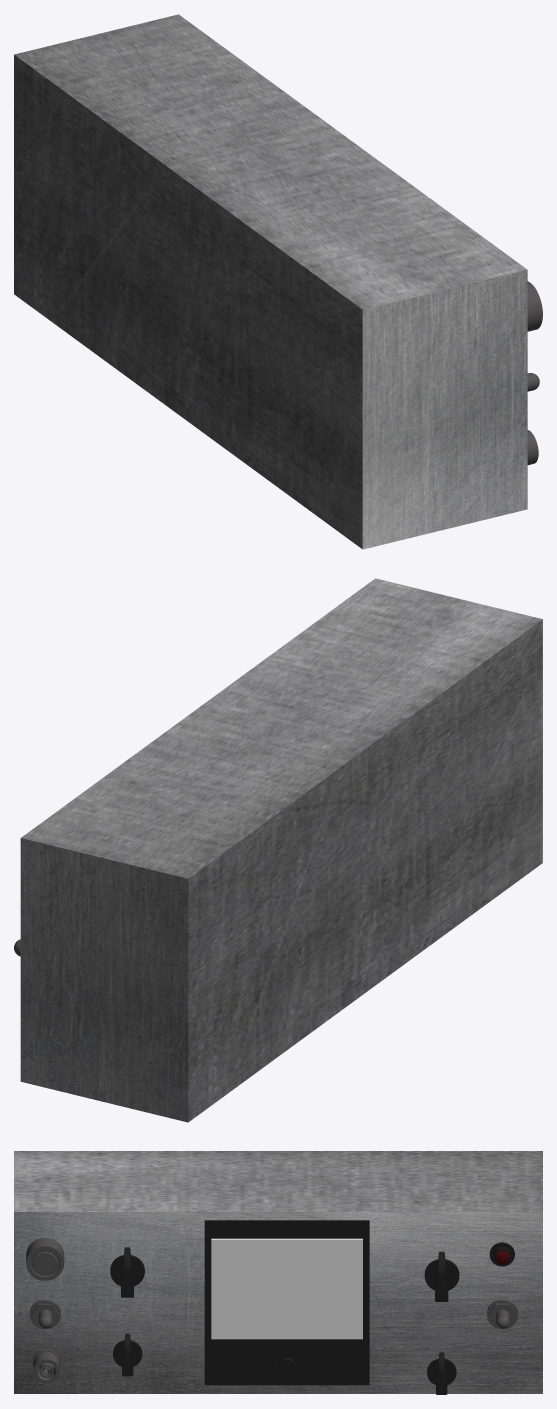
File: усилитель.fbx
The picture shows the model from 3 angles, top to bottom: view 1: azimuth 30°, elevation 25°; view 2: azimuth 150°, elevation 25°; view 3: azimuth 270°, elevation 25°; orthographic projection. The views are drawn at different scales.
Parts seen in each view (by area): view 1: Cube.014, Cylinder.041; view 2: Cube.014; view 3: Cube.014, Cube.016, Cube.015, Cylinder.041, Cylinder.055, Cylinder.058, Cylinder.001, Cube.017, Cube.020, Cylinder.057, Cylinder.056, Cube.019 (+3 smaller).
Boxes of the visible parts, x1,y1,x2,y2 form: Cube.014: [14, 14, 527, 549]; Cylinder.041: [527, 281, 542, 331]; Cube.014: [20, 578, 542, 1122]; Cube.014: [14, 1151, 542, 1393]; Cube.016: [211, 1238, 362, 1339]; Cube.015: [204, 1220, 369, 1385]; Cylinder.041: [26, 1237, 64, 1280]; Cylinder.055: [424, 1259, 459, 1290]; Cylinder.058: [110, 1255, 144, 1286]; Cylinder.001: [33, 1351, 59, 1383]; Cube.017: [435, 1251, 448, 1301]; Cube.020: [121, 1247, 133, 1297]; Cylinder.057: [113, 1340, 142, 1366]; Cylinder.056: [427, 1358, 456, 1385]; Cube.019: [122, 1333, 133, 1376].
Size of the model in its own units: 112 by 130 by 343.
5 materials, 1 textured.
